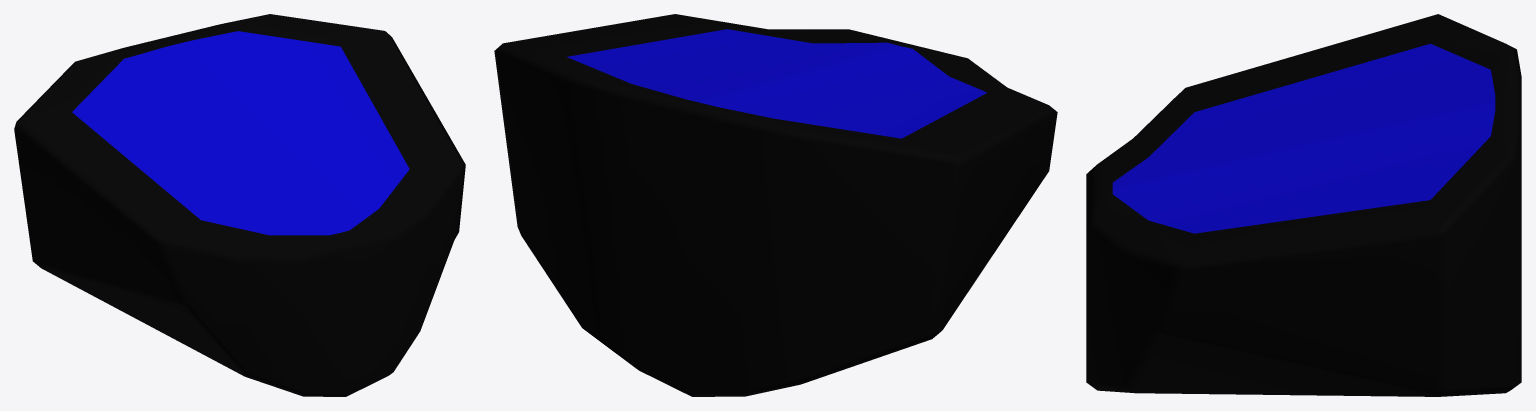
Rendered from Coccyx_A.fbx.
3 renders of one model, left to right at view 1: azimuth 30°, elevation 25°; view 2: azimuth 150°, elevation 25°; view 3: azimuth 270°, elevation 25°, orthographic. The views are drawn at different scales.
Parts seen in each view (by area): view 1: Coccyx_A; view 2: Coccyx_A; view 3: Coccyx_A.
Boxes of the visible parts, x1,y1,x2,y2 form: Coccyx_A: [14, 14, 465, 396]; Coccyx_A: [494, 14, 1057, 396]; Coccyx_A: [1086, 14, 1521, 396].
Size of the model in its own units: 47.29 by 28.01 by 39.57.
